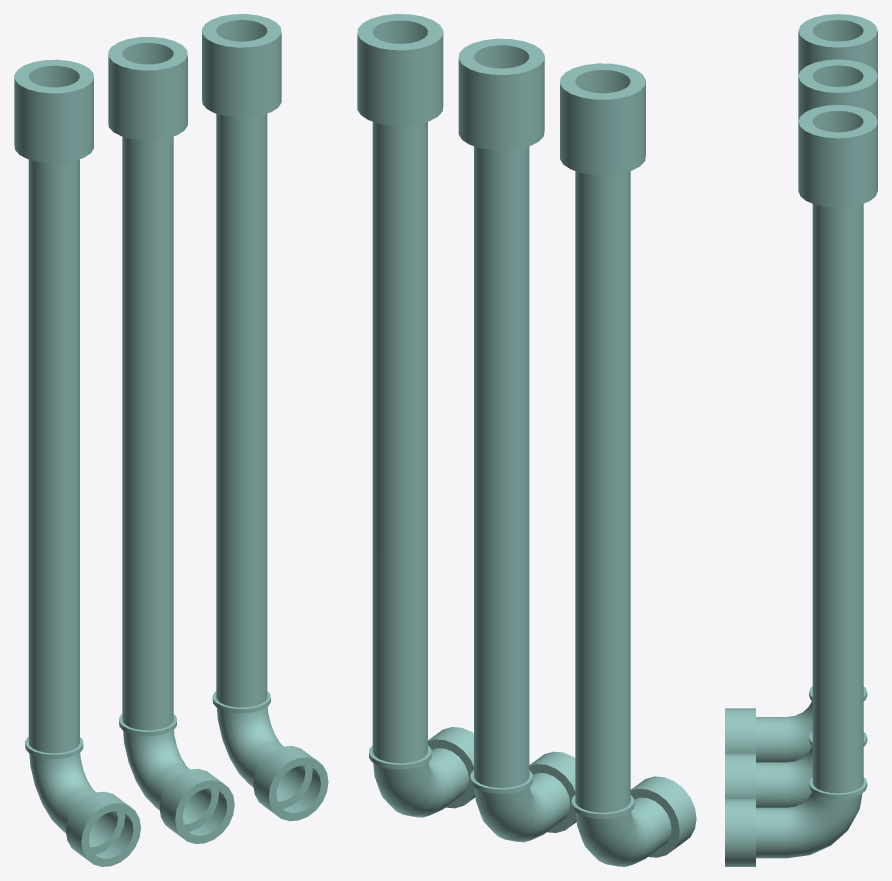
File: Pipe_Vertical_6.fbx
The picture shows the model from 3 angles, left to right: view 1: azimuth 30°, elevation 25°; view 2: azimuth 150°, elevation 25°; view 3: azimuth 270°, elevation 25°; orthographic projection. The views are drawn at different scales.
Visible parts, largest first — view 1: Pipe_Vertical_6; view 2: Pipe_Vertical_6; view 3: Pipe_Vertical_6.
Part boxes in pixels (x1,y1,x2,y2): Pipe_Vertical_6: (14, 14, 328, 866); Pipe_Vertical_6: (357, 14, 696, 866); Pipe_Vertical_6: (725, 14, 877, 866).
Size of the model in its own units: 74.17 by 206 by 38.49.
